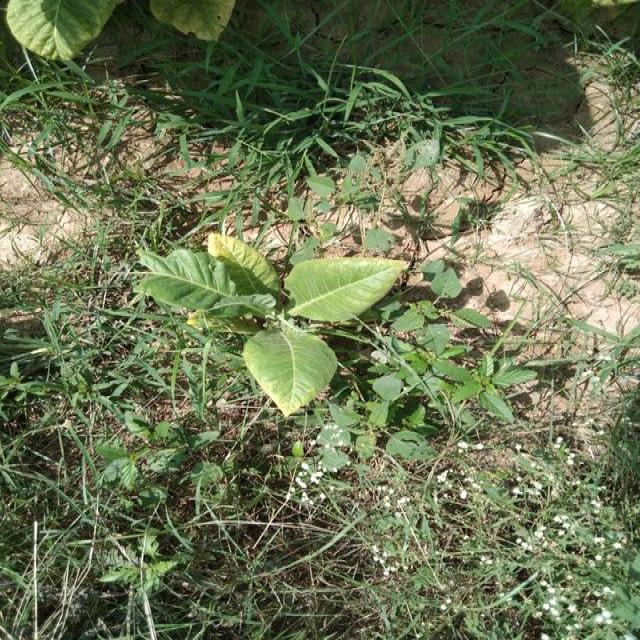crop: (139, 236, 405, 403), (6, 0, 241, 45)
